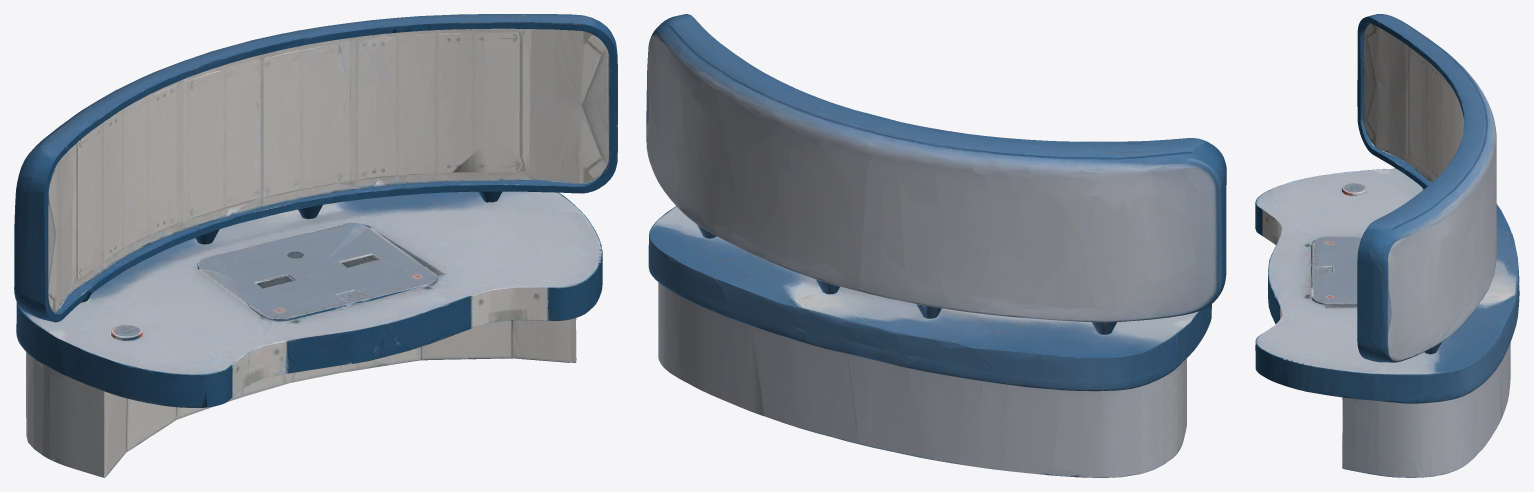
Rendered from comparison-console.gltf.
The picture shows the model from 3 angles, left to right: view 1: azimuth 30°, elevation 25°; view 2: azimuth 150°, elevation 25°; view 3: azimuth 270°, elevation 25°; orthographic projection. The views are drawn at different scales.
Bounding box in the file's own units: 1.9 × 0.9745 × 0.908.
1 material, 1 textured.
